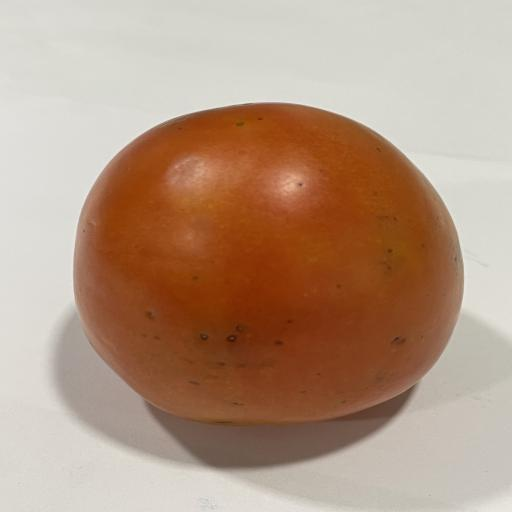unripe: (74, 103, 463, 426)
